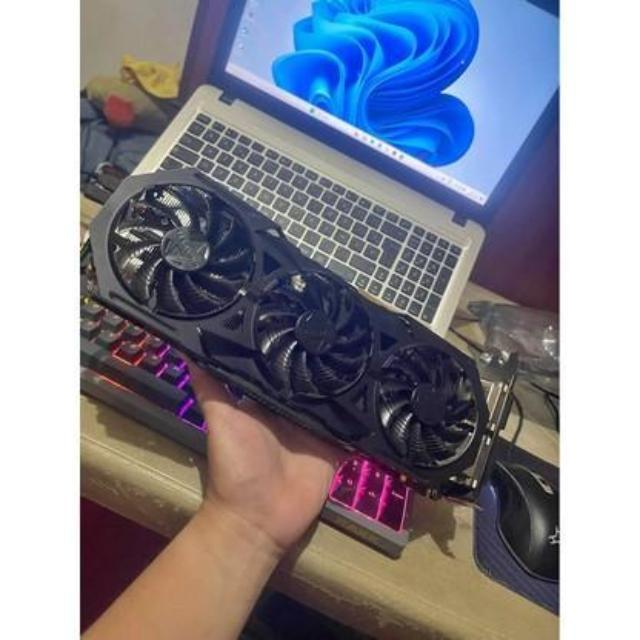GPU: (80, 165, 489, 492)
